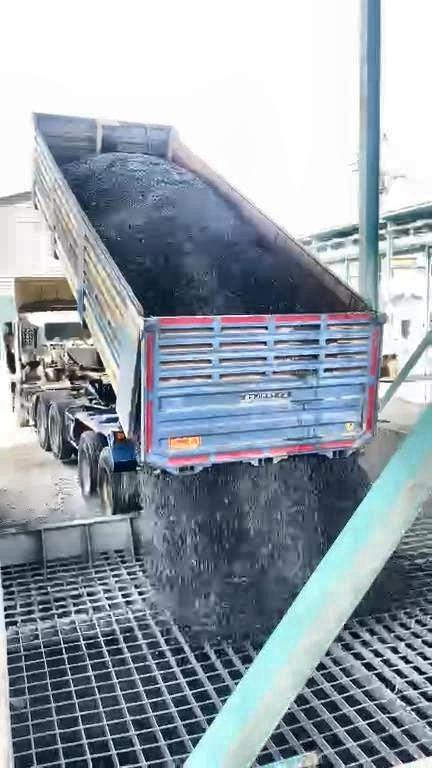gravel: (65, 153, 349, 314), (142, 457, 366, 640), (353, 552, 421, 617)
